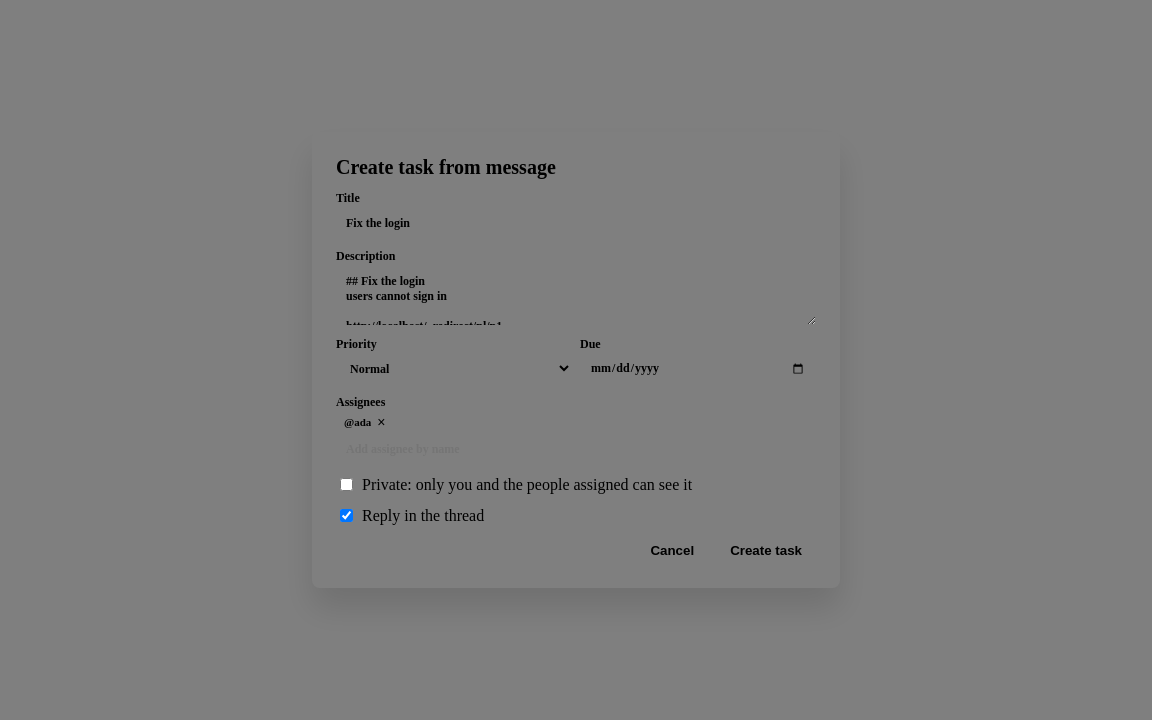
Scenario: creating from a message › keeps the dialog open and shows the error when creation fails
Expected: the dialog is shown, [312,132,840,588]
Click the button "Create task" at (766, 550), box [716,537,816,564]
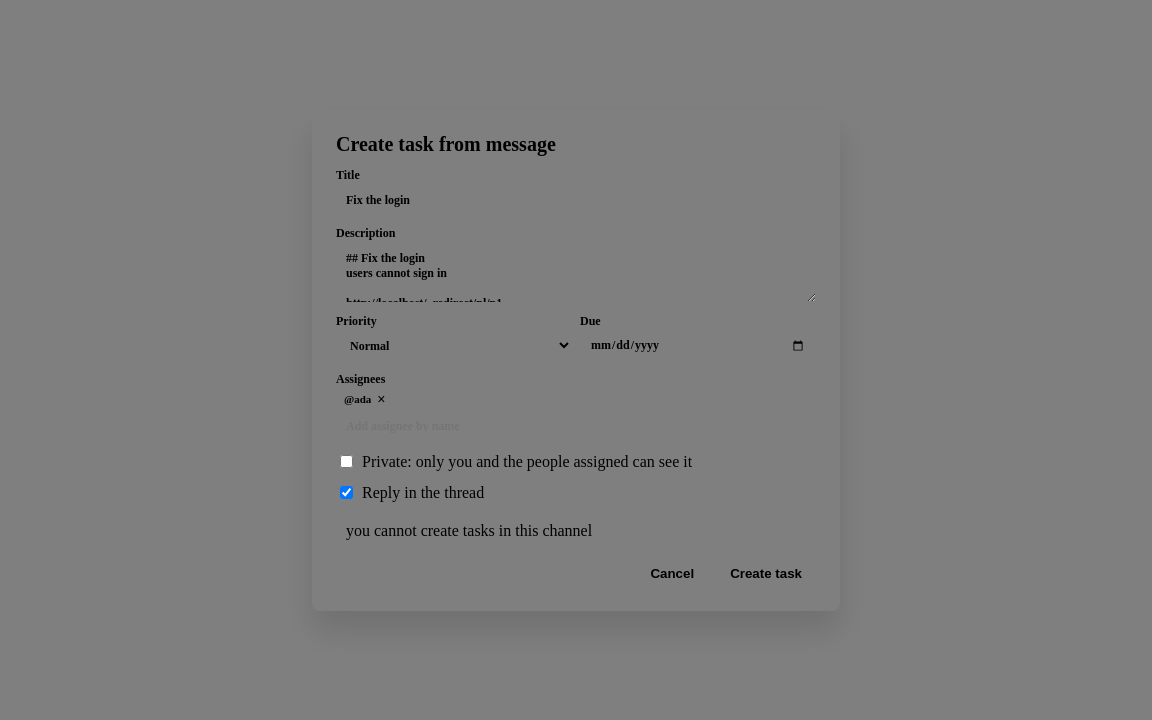
Expected: the dialog is shown, [312,109,840,611]
Result: the message reads "you cannot create tasks in this channel" at [346,522,592,539]
